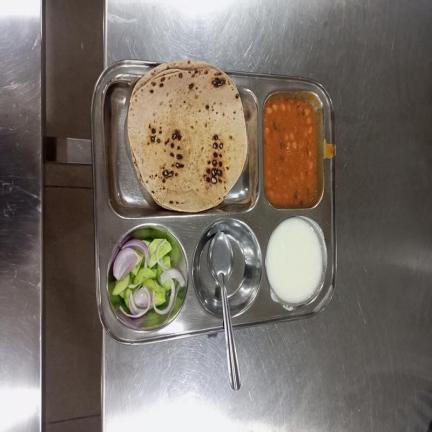Chhole: (263, 97, 319, 208)
Dahi: (266, 217, 322, 304)
Plate: (90, 59, 338, 345)
Roti: (127, 60, 248, 213)
Salad: (112, 238, 186, 319)
